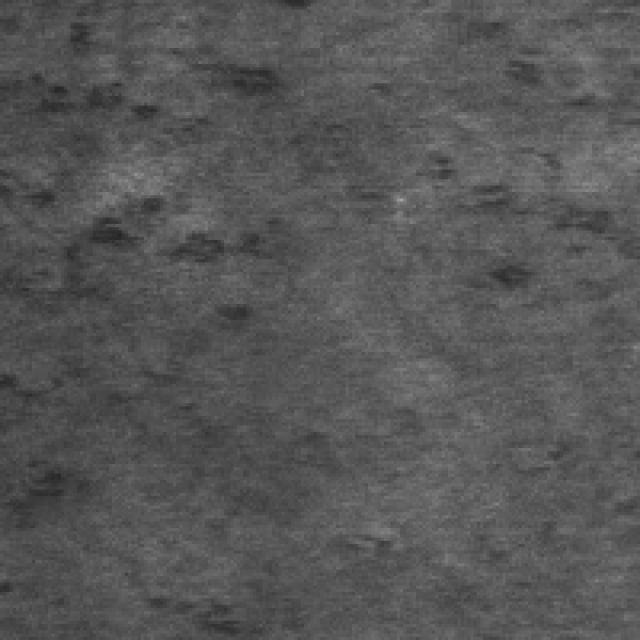rolled-in_scale: (0, 67, 253, 480), (384, 128, 621, 294)
